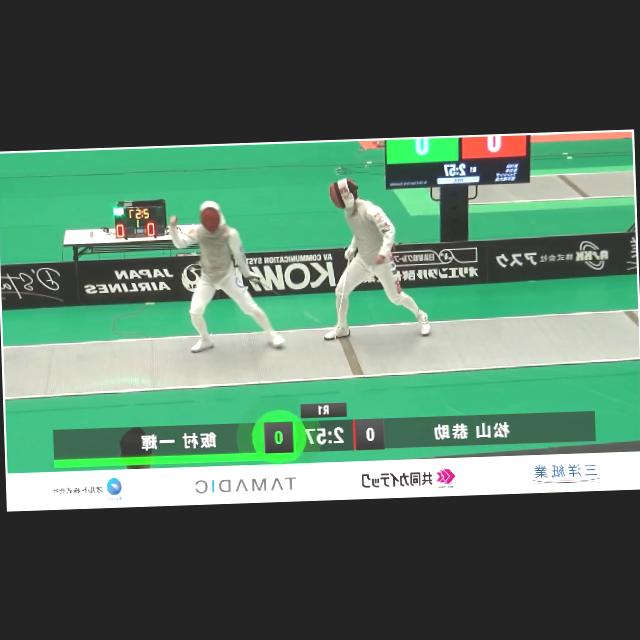blade: (248, 272, 325, 328), (324, 248, 358, 348)
